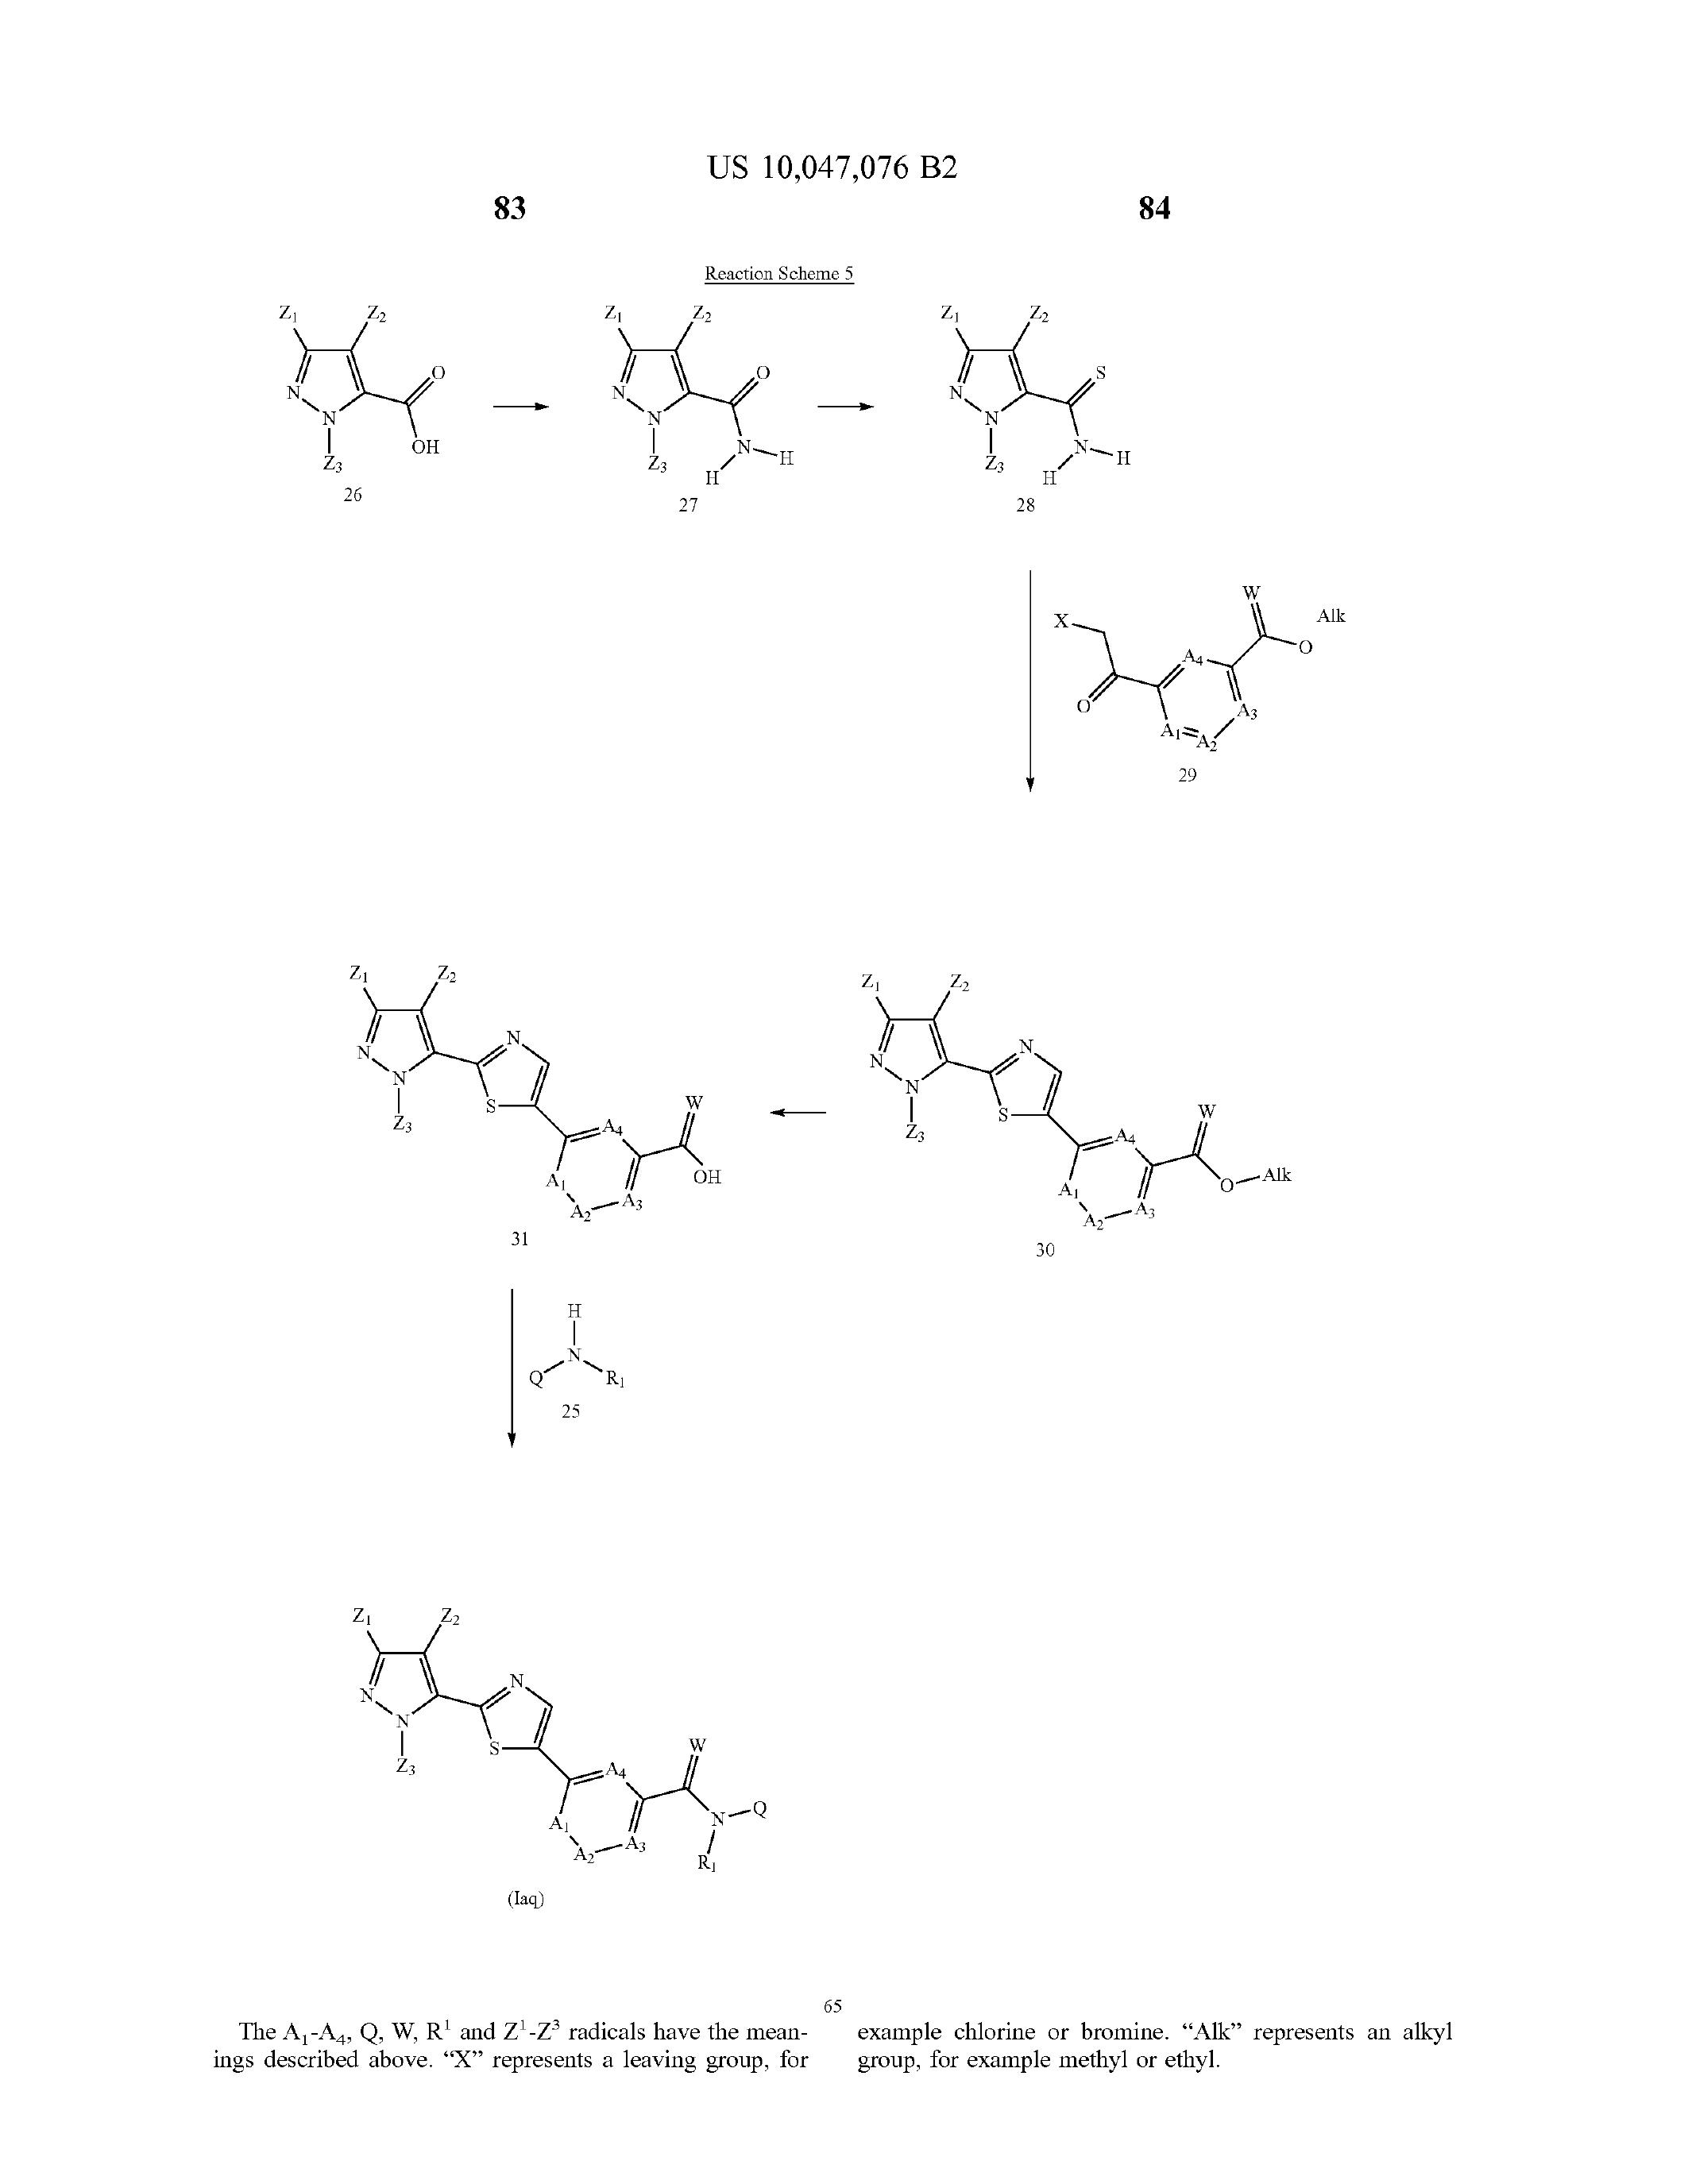intermediates: (787, 906, 1449, 1306)
